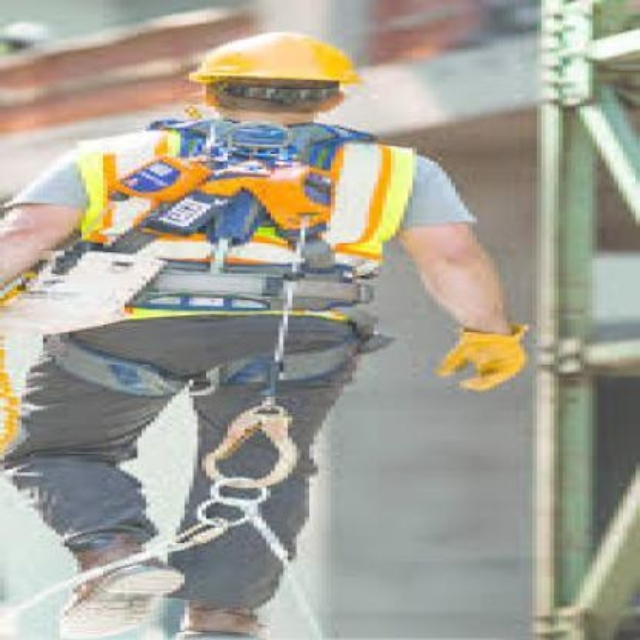Arnes_seguridad: (38, 119, 394, 404)
